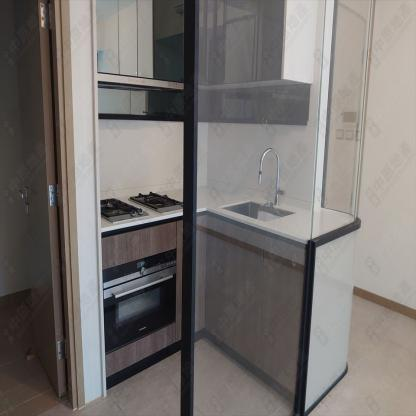Cupboard: (96, 0, 184, 81)
Exhaust Hood: (97, 72, 186, 90)
Faucet: (257, 144, 281, 207)
Oven: (101, 247, 178, 355)
Stove: (130, 189, 183, 216), (99, 198, 152, 224)
